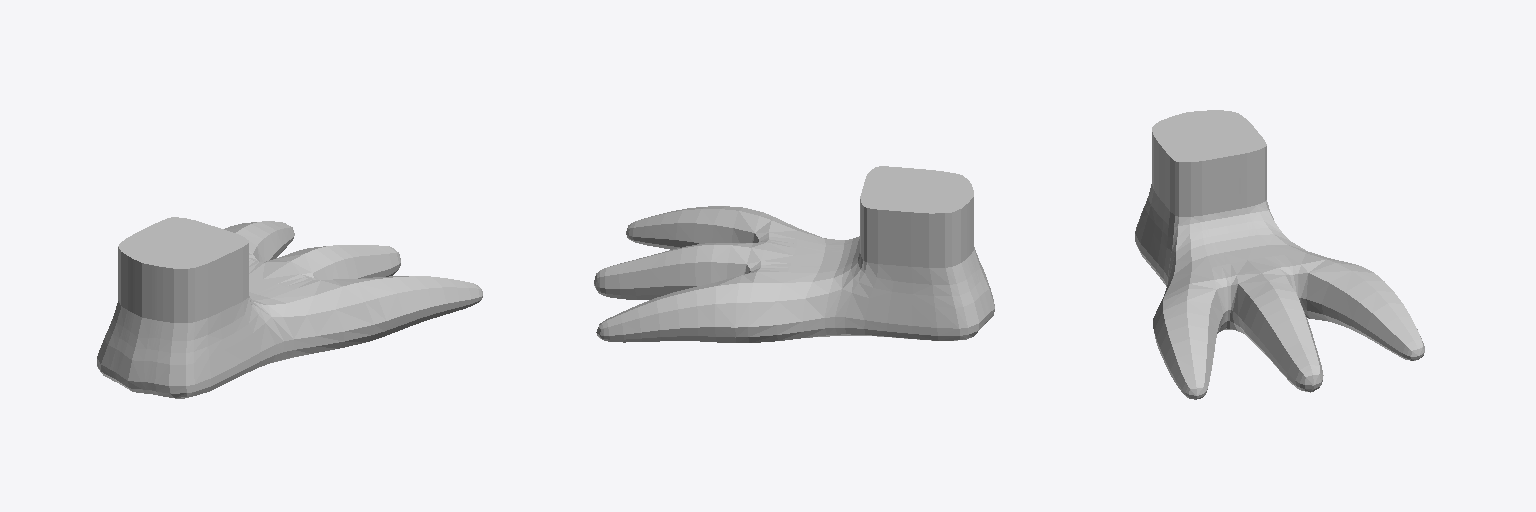
File: Cabo_Pata_Izquierda.obj
3 views of the same model, side by side, from view 1: azimuth 30°, elevation 25°; view 2: azimuth 150°, elevation 25°; view 3: azimuth 270°, elevation 25° (orthographic).
Parts seen in each view (by area): view 1: Cabo_Pata_Izquierda; view 2: Cabo_Pata_Izquierda; view 3: Cabo_Pata_Izquierda.
Part boxes in pixels (x1,y1,x2,y2): Cabo_Pata_Izquierda: (97,217,482,398); Cabo_Pata_Izquierda: (594,166,994,342); Cabo_Pata_Izquierda: (1135,110,1424,399).
Size of the model in its own units: 4.05 by 1.39 by 2.78.